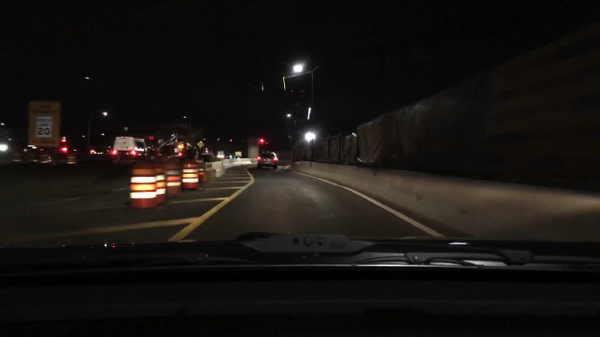bus: (115, 135, 149, 159)
car: (148, 145, 188, 162), (256, 150, 278, 169), (96, 146, 116, 156)
traffic light: (259, 137, 265, 146), (150, 136, 154, 141)
traffic sign: (29, 100, 61, 147), (196, 140, 204, 148), (235, 151, 242, 157)
